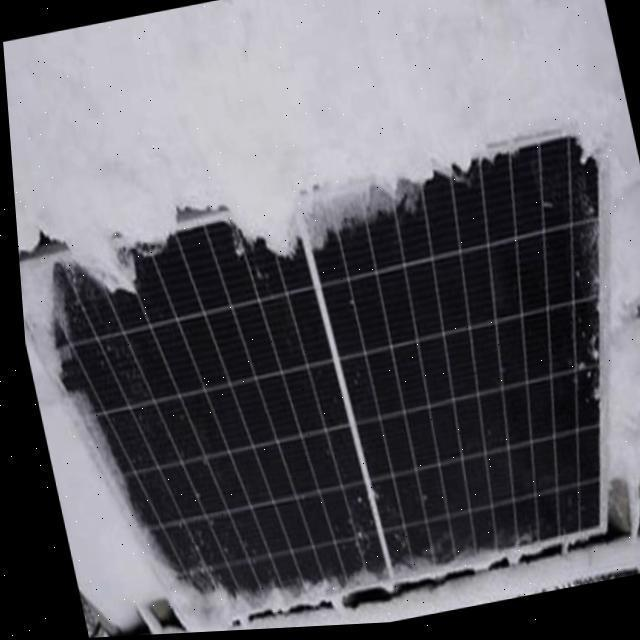Anomaly Solar Panel: (16, 129, 640, 637)
Snow: (223, 151, 529, 279), (158, 540, 540, 635), (63, 228, 186, 308), (560, 120, 616, 175)
